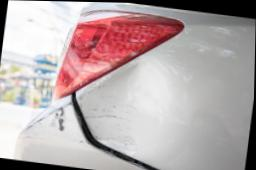Bumper: (0, 83, 76, 165)
Fender: (75, 33, 255, 164)
